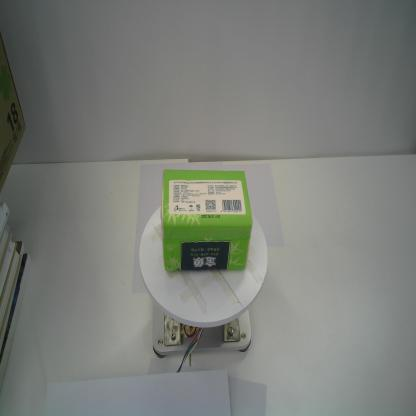Tissue: (161, 168, 252, 272)
